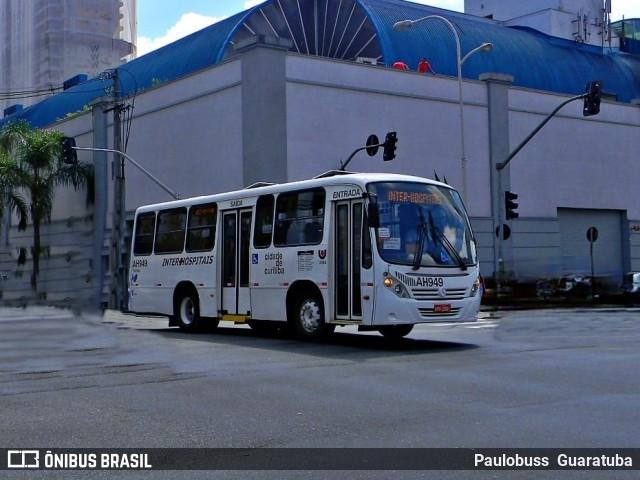INTER HOSPITAIS: (384, 187, 445, 208)
